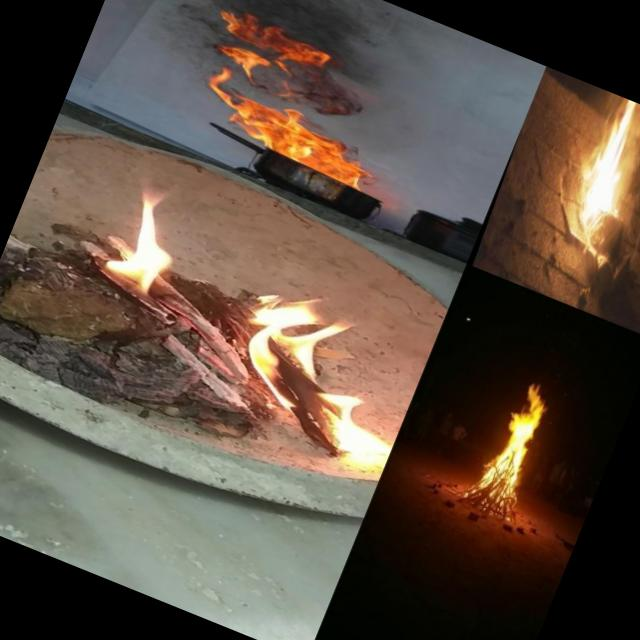fire: (207, 271, 435, 474), (162, 59, 405, 200), (80, 160, 214, 313), (472, 372, 562, 508), (200, 5, 312, 99), (563, 153, 626, 235), (592, 94, 640, 164)
smoke: (166, 0, 398, 74), (288, 58, 376, 129), (607, 167, 640, 227), (615, 104, 640, 170), (611, 223, 640, 267)
